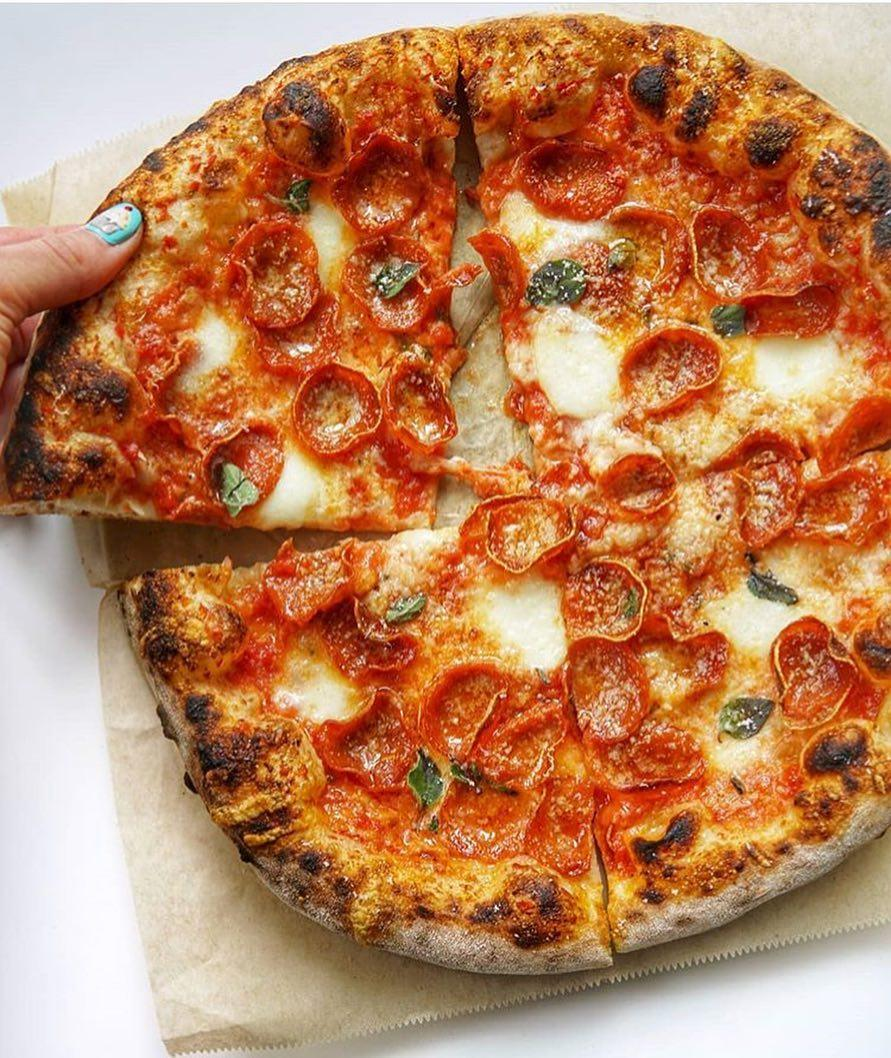Basil: (527, 258, 599, 311), (223, 459, 260, 512), (375, 261, 422, 292)
Cheese: (469, 575, 567, 666), (529, 317, 614, 418), (733, 345, 839, 399), (501, 195, 590, 256)
Pepperoni: (213, 213, 320, 324), (319, 683, 415, 799), (429, 657, 523, 772), (759, 619, 858, 726), (701, 205, 803, 304), (525, 137, 639, 218), (619, 329, 723, 416), (287, 357, 379, 454), (559, 643, 648, 743), (595, 211, 683, 303), (719, 431, 788, 546), (311, 595, 408, 670), (483, 491, 574, 568), (355, 135, 430, 228), (735, 284, 845, 347), (351, 249, 436, 327), (203, 417, 280, 500), (807, 467, 879, 554), (655, 629, 730, 710), (273, 539, 354, 610), (563, 565, 643, 636), (397, 357, 448, 450), (605, 451, 675, 514), (477, 219, 522, 314)
Pizza: (23, 9, 891, 983)
